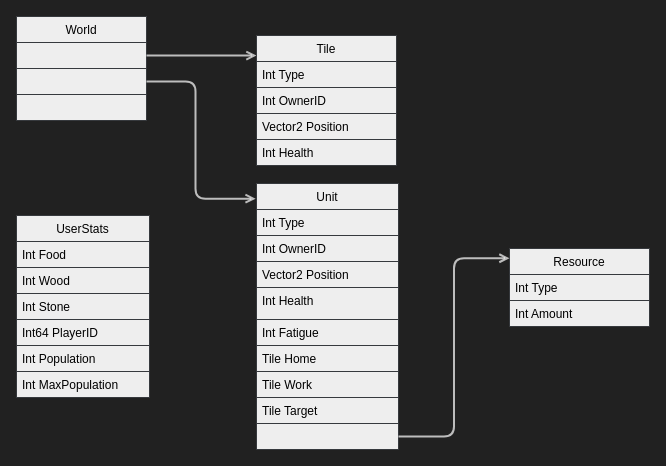
The diagram is 666 pixels wide and 466 high, and some of its shapes have lost their labels. Each missing label, with the centre of its shape:
"Resource HeldResource" goes at (x=327, y=436).
"String Hash" goes at (x=81, y=107).
"Tile[] Tiles" goes at (x=81, y=55).
"Unit[] Units" goes at (x=81, y=81).
